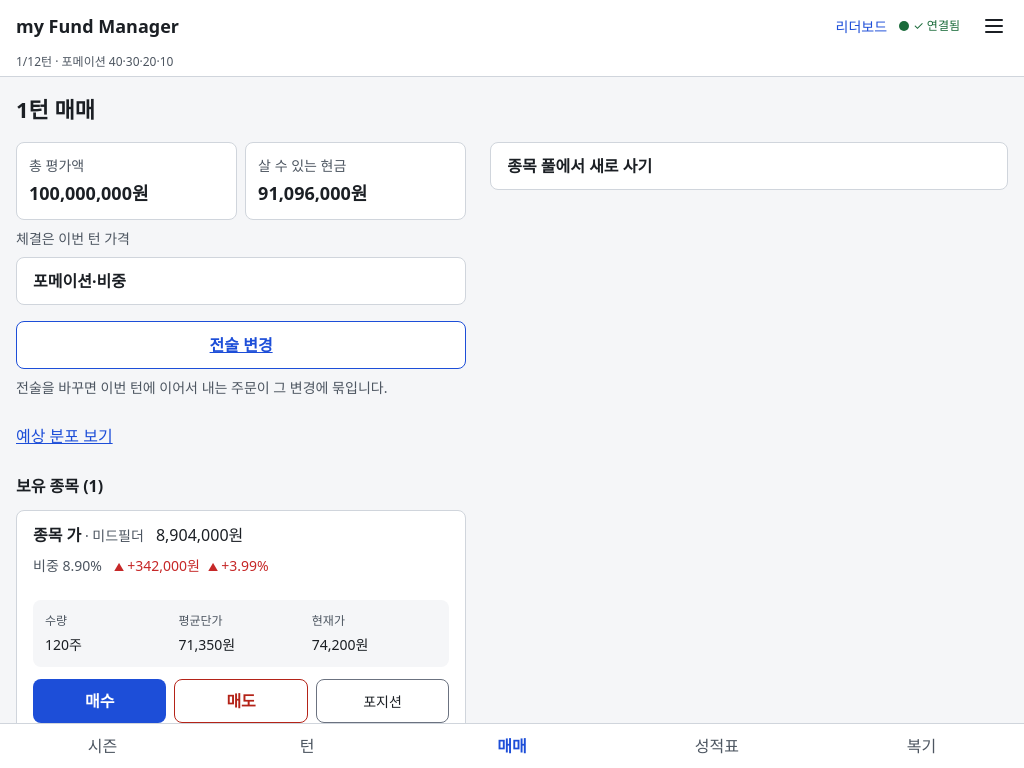
Test case: TradePage › quotes a sell without a max button
This screenshot has width=1024, height=768.
Click the button with aria-label "종목 가 매도" at (241, 701), box [174,679,308,723]
(page scrolled)
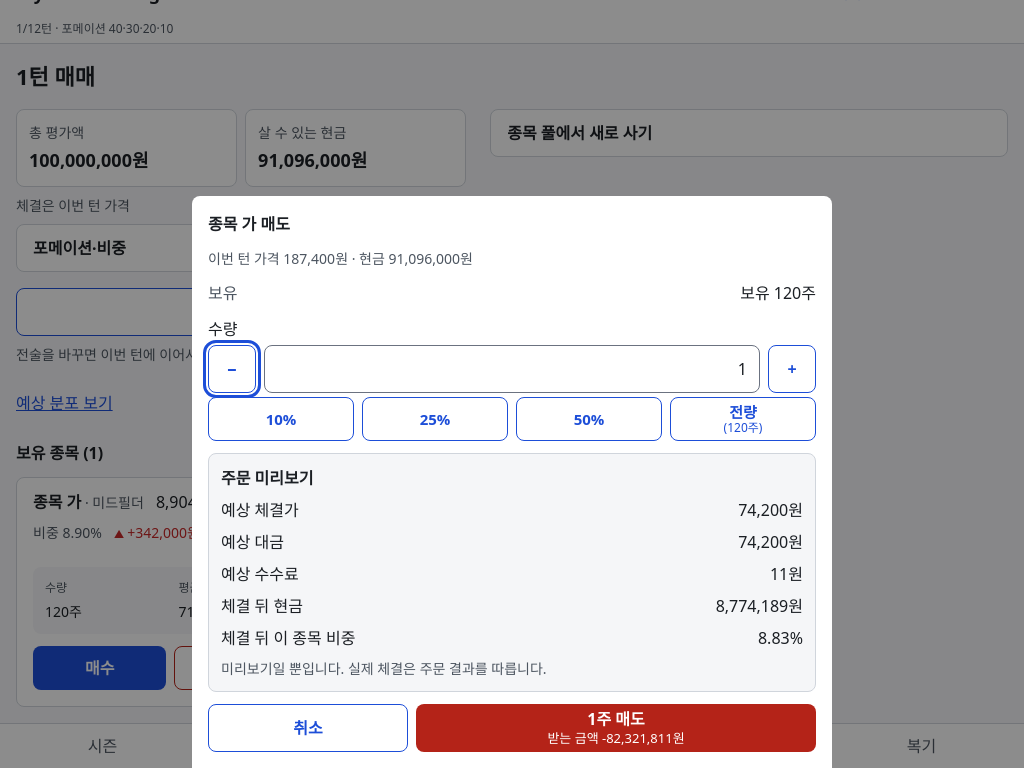
expect the text "8,774,189원" is shown: met, box [716,594,803,618]
expect the button "전량 (120주)" is shown: met, box [670,397,816,441]
